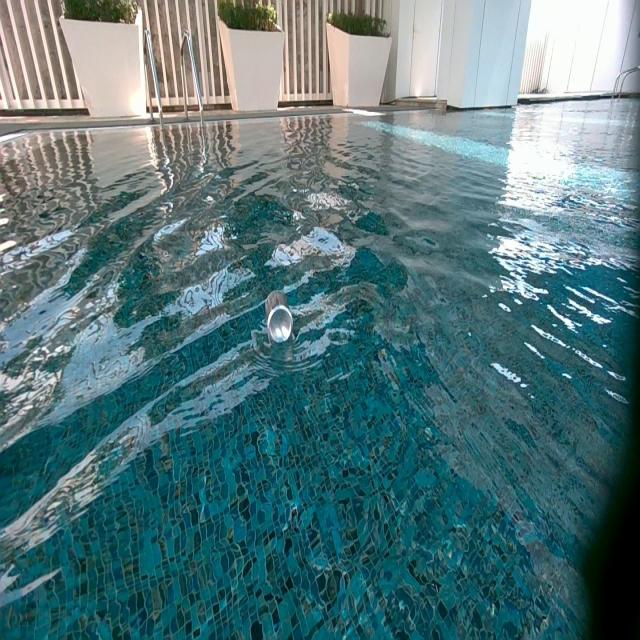Cans: (267, 292, 293, 347)
